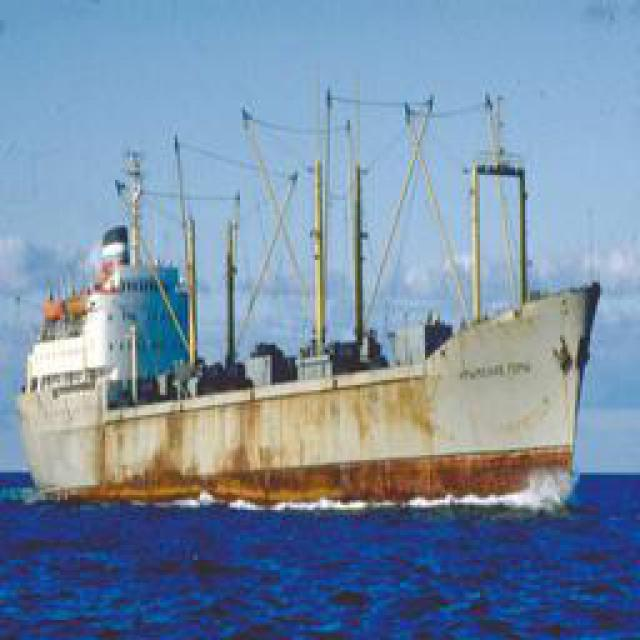Ship: (20, 81, 605, 516)
